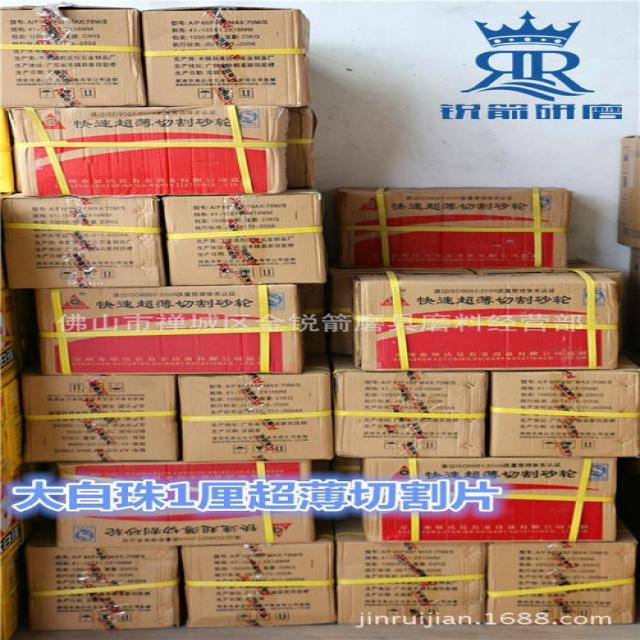box: (348, 271, 620, 370), (6, 106, 289, 197), (37, 285, 305, 375), (56, 460, 320, 549), (361, 458, 617, 544), (339, 186, 571, 267), (138, 6, 310, 107), (334, 513, 488, 625), (182, 516, 333, 626), (161, 189, 330, 286), (332, 354, 490, 457), (177, 357, 332, 461), (1, 193, 166, 289), (26, 530, 182, 631), (488, 520, 637, 625), (23, 363, 178, 463), (0, 2, 146, 108), (490, 356, 640, 456)
